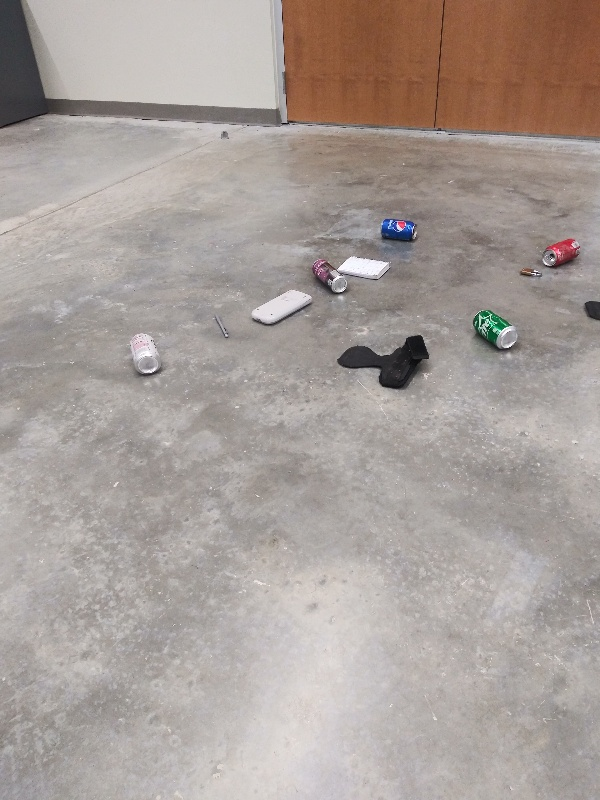can: (468, 308, 520, 354), (311, 255, 352, 297), (126, 330, 164, 375), (540, 236, 584, 271), (378, 214, 419, 245)
